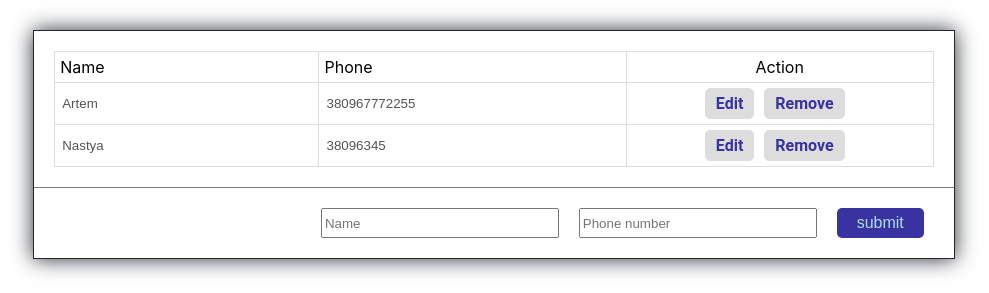
Scenario: test app › delete note
This screenshot has width=989, height=293.
Check: the number of forms with test id "note" is 2, box top-left (54, 82), bottom-right (934, 124); top-left (54, 124), bottom-right (934, 167)
Click the 1st button with test id "btn-delete" at (804, 104), box top-left (764, 88), bottom-right (845, 119)
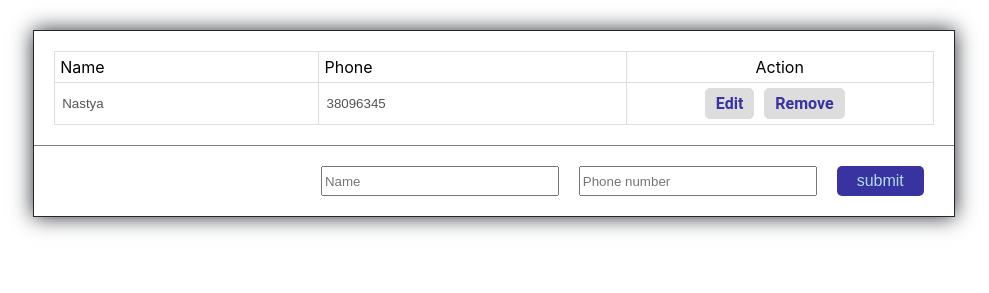
Check: the number of forms with test id "note" is 1, box top-left (54, 82), bottom-right (934, 125)
